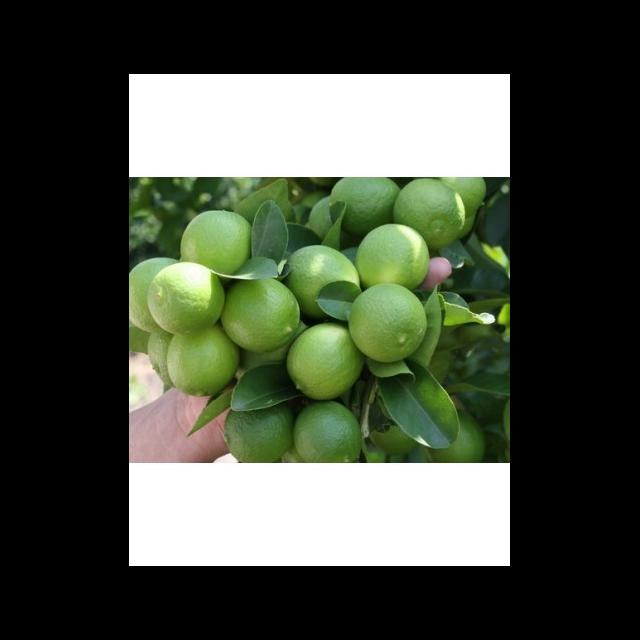lime: (348, 284, 430, 366), (286, 322, 366, 403), (222, 280, 306, 356), (284, 246, 360, 327), (396, 180, 466, 255), (150, 264, 224, 334), (284, 402, 366, 465), (168, 325, 240, 396), (356, 224, 430, 293), (180, 210, 252, 276), (224, 407, 294, 464)
